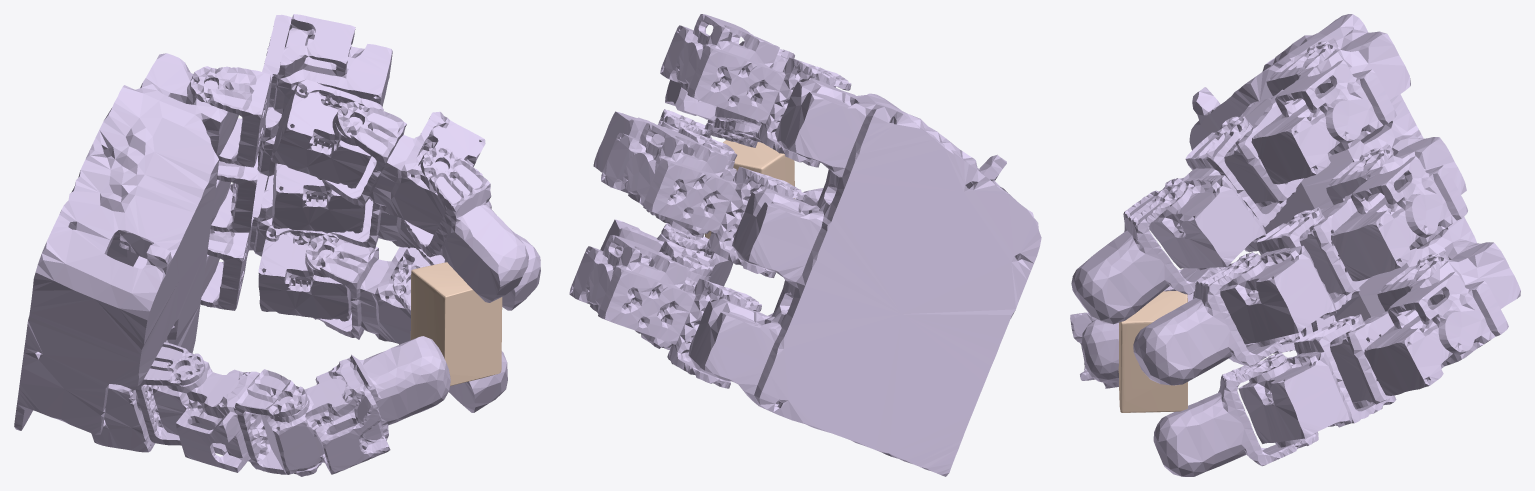
Rendered from b3d87b024e0ad5-closed.glb.
3 views of the same model, side by side, from view 1: azimuth 30°, elevation 25°; view 2: azimuth 150°, elevation 25°; view 3: azimuth 270°, elevation 25° (orthographic). The views are drawn at different scales.
Parts seen in each view (by area): view 1: LEAP_hand, world; view 2: LEAP_hand, world; view 3: LEAP_hand, world.
Part boxes in pixels (x1,y1,x2,y2): LEAP_hand: (14, 14, 540, 476); world: (410, 262, 502, 385); LEAP_hand: (569, 14, 1041, 476); world: (705, 140, 794, 238); LEAP_hand: (1070, 14, 1520, 476); world: (1118, 290, 1187, 412).
Size of the model in its own units: 0.1935 by 0.1589 by 0.1669.
